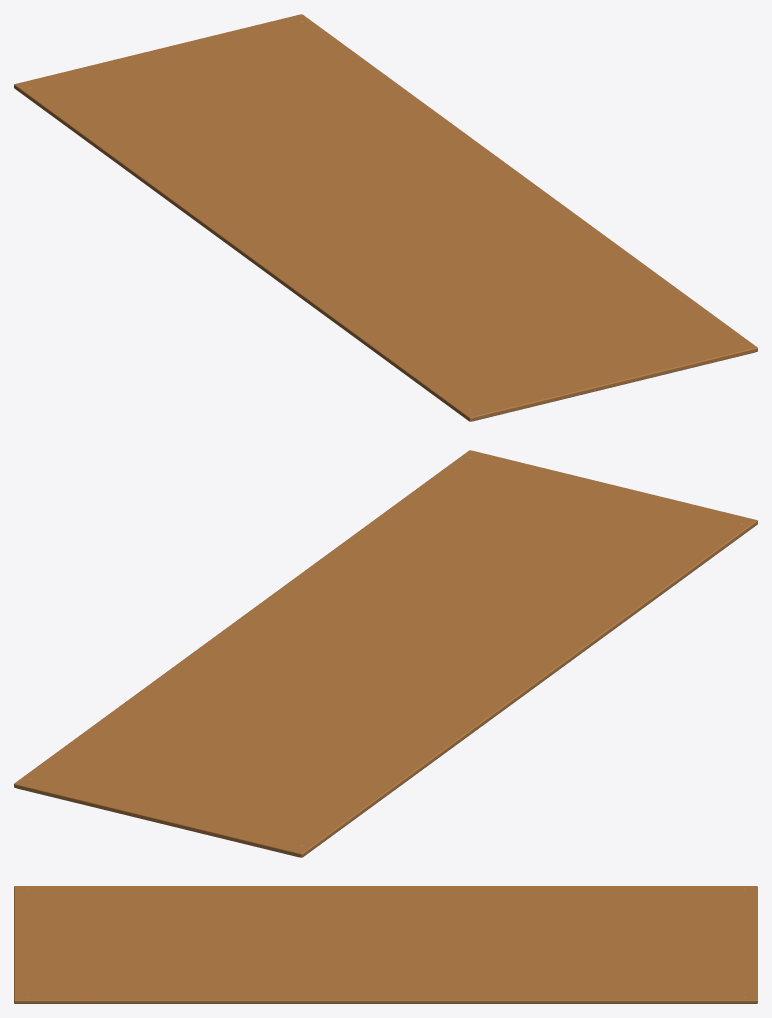
Rendered from lower-board-family-light.glb.
3 renders of one model, top to bottom at view 1: azimuth 30°, elevation 25°; view 2: azimuth 150°, elevation 25°; view 3: azimuth 270°, elevation 25°, orthographic. The views are drawn at different scales.
Visible parts, largest first — view 1: wood, edge; view 2: wood, edge; view 3: wood, edge.
Part boxes in pixels (left/top/right/bottom): wood: left=14, top=14, right=757, bottom=421; edge: left=15, top=88, right=754, bottom=421; wood: left=14, top=450, right=757, bottom=857; edge: left=17, top=524, right=756, bottom=857; wood: left=14, top=886, right=757, bottom=1003; edge: left=16, top=1002, right=755, bottom=1003.
Size of the model in its own units: 10 by 0.156 by 27.37.
